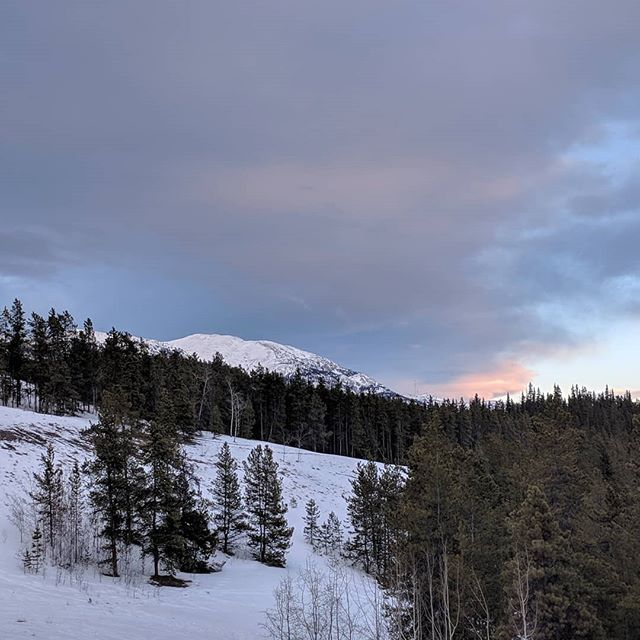mountain: (106, 316, 444, 399)
sky: (1, 1, 632, 381)
tree: (11, 465, 107, 586), (136, 416, 194, 586), (86, 399, 136, 577), (204, 443, 251, 571), (247, 432, 289, 562)
vegetation: (19, 319, 640, 461), (401, 419, 640, 640)
